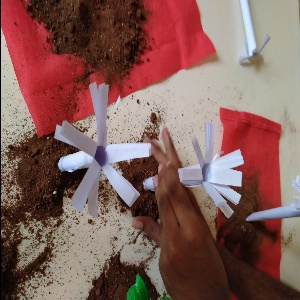weed: (42, 73, 148, 216), (147, 136, 260, 214), (246, 174, 300, 231), (232, 5, 271, 64)
